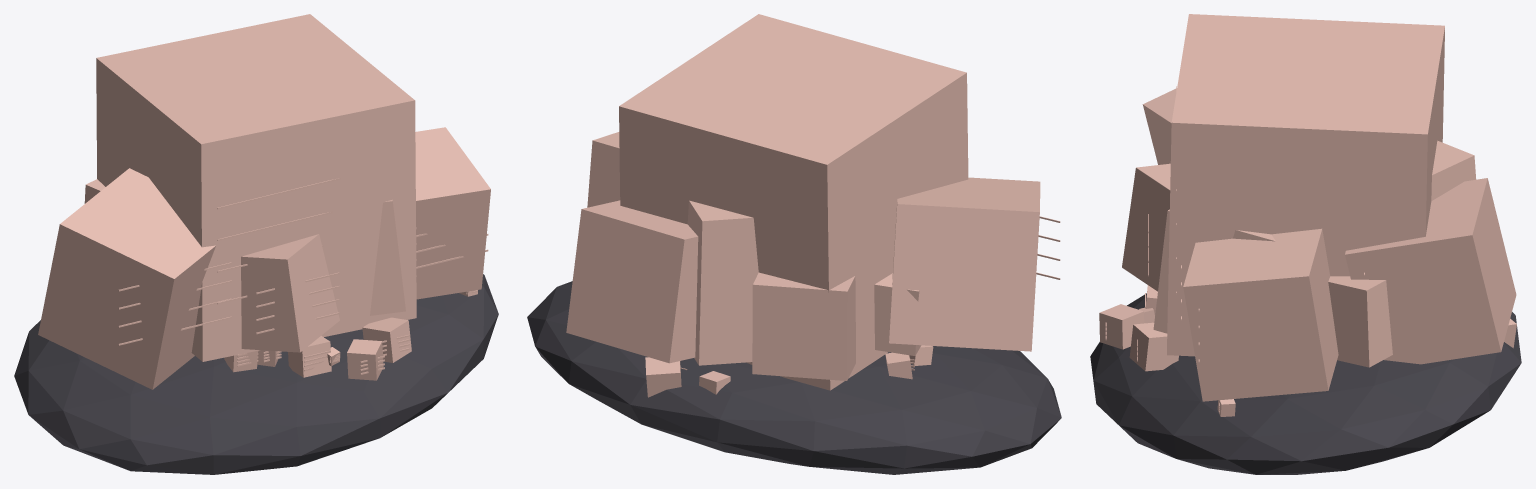
File: sylvite.glb
The picture shows the model from 3 angles, left to right: view 1: azimuth 30°, elevation 25°; view 2: azimuth 150°, elevation 25°; view 3: azimuth 270°, elevation 25°; orthographic projection. The views are drawn at different scales.
Parts seen in each view (by area): view 1: Sylvite; view 2: Sylvite; view 3: Sylvite.
Part boxes in pixels (<box>): Sylvite: <box>14,14,498,474</box>; Sylvite: <box>527,14,1061,474</box>; Sylvite: <box>1090,14,1521,474</box>.
Size of the model in its own units: 3.96 by 2.72 by 3.03.
